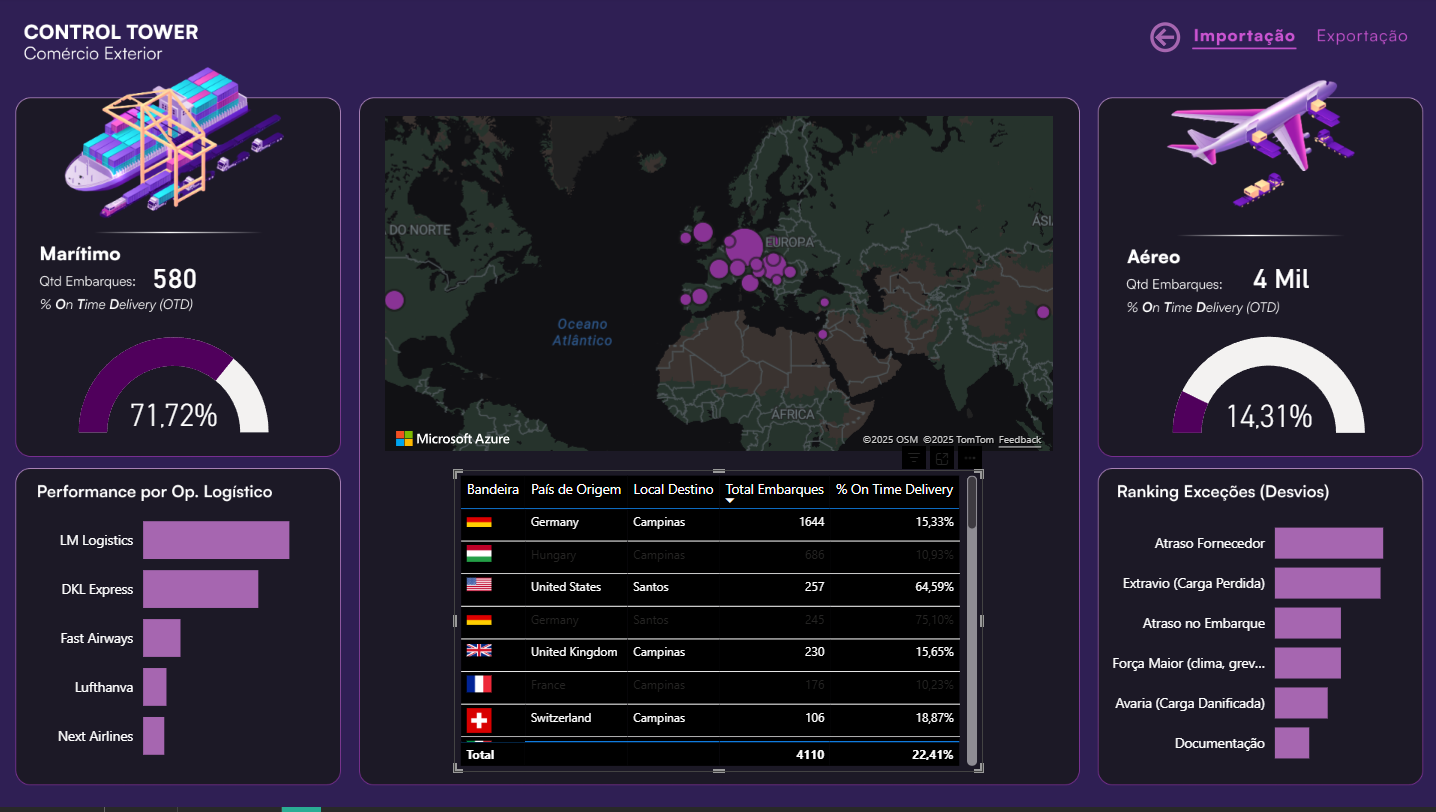

The dashboard page shown, as its layout file describes it:
{"tool":"powerbi","page":{"name":"Importação","canvas":[1280,720],"ordinal":1},"visuals":[{"type":"actionButton","box":[1018.4,17.5,38.9,36],"z":0},{"type":"cardVisual","fields":{"Data":["Bandeiras.Total Embarques"]},"box":[109.3,211.6,93.3,57.8],"z":1000},{"type":"cardVisual","fields":{"Data":["Bandeiras.Total Embarques"]},"box":[1078.2,211.6,123.6,64.9],"z":2000},{"type":"barChart","fields":{"Category":["Cadastro exceções.Descrição Desvio"],"Y":["CountNonNull(Historico Importacao.Cód. Exceção)"]},"box":[967.1,444.4,312.9,252.4],"z":3000},{"type":"azureMap","fields":{"Category":["Bandeiras.ID País Origem"],"Size":["CountNonNull(Historico Importacao.País de Origem)"]},"box":[337.8,100.4,603.6,308.4],"z":4000},{"type":"gauge","fields":{"Y":["Bandeiras.% On Time Delivery"]},"box":[1037.8,269.4,180.9,150.8],"z":5000},{"type":"gauge","fields":{"Y":["Bandeiras.% On Time Delivery"]},"box":[66.1,269.4,179,150.8],"z":6000},{"type":"barChart","fields":{"Category":["Cadastro Operador Logístico.Operador Logístico"],"Y":["Bandeiras.% On Time Delivery"]},"box":[38.9,435.7,239.3,261.6],"z":7000},{"type":"tableEx","fields":{"Values":["Bandeiras.Bandeira","Historico Importacao.País de Origem","Historico Importacao.Local Destino","Bandeiras.Total Embarques","Bandeiras.% On Time Delivery"]},"box":[404.4,420.4,470.2,268.4],"z":8000}]}

Visuals, with their boxes in screenshot pixels (x1, y1, x2, y2), scaled from the page's 1280x720 canvas onto the 1436x812 screenshot:
actionButton: {"x1": 1143, "y1": 20, "x2": 1186, "y2": 60}
cardVisual - Bandeiras.Total Embarques: {"x1": 123, "y1": 239, "x2": 227, "y2": 304}
cardVisual - Bandeiras.Total Embarques: {"x1": 1210, "y1": 239, "x2": 1348, "y2": 312}
barChart - Cadastro exceções.Descrição Desvio x CountNonNull(Historico Importacao.Cód. Exceção): {"x1": 1085, "y1": 501, "x2": 1435, "y2": 786}
azureMap - Bandeiras.ID País Origem x CountNonNull(Historico Importacao.País de Origem): {"x1": 379, "y1": 113, "x2": 1056, "y2": 461}
gauge - Bandeiras.% On Time Delivery: {"x1": 1164, "y1": 304, "x2": 1367, "y2": 474}
gauge - Bandeiras.% On Time Delivery: {"x1": 74, "y1": 304, "x2": 275, "y2": 474}
barChart - Cadastro Operador Logístico.Operador Logístico x Bandeiras.% On Time Delivery: {"x1": 44, "y1": 491, "x2": 312, "y2": 786}
tableEx - Bandeiras.Bandeira x Historico Importacao.País de Origem: {"x1": 454, "y1": 474, "x2": 981, "y2": 777}
